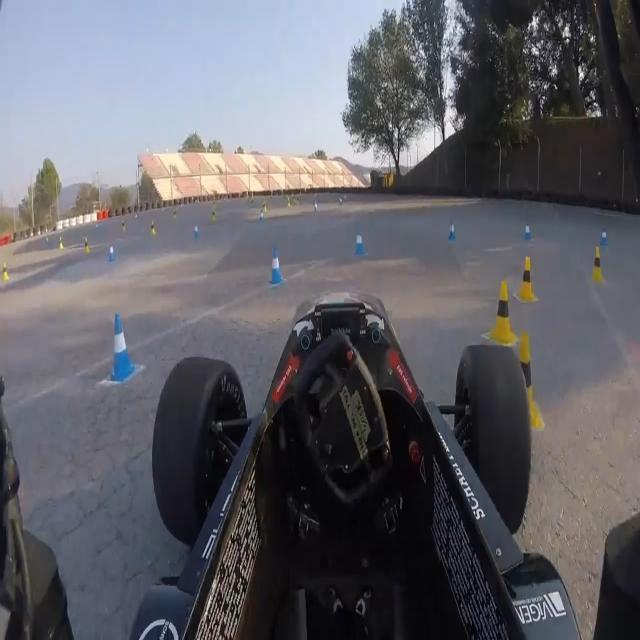blue_cone: (103, 307, 140, 392), (349, 214, 373, 273), (263, 243, 288, 292), (446, 208, 459, 252), (523, 218, 533, 238)
yellow_cone: (512, 332, 554, 432), (492, 268, 517, 352), (520, 244, 538, 305), (588, 240, 608, 288)
